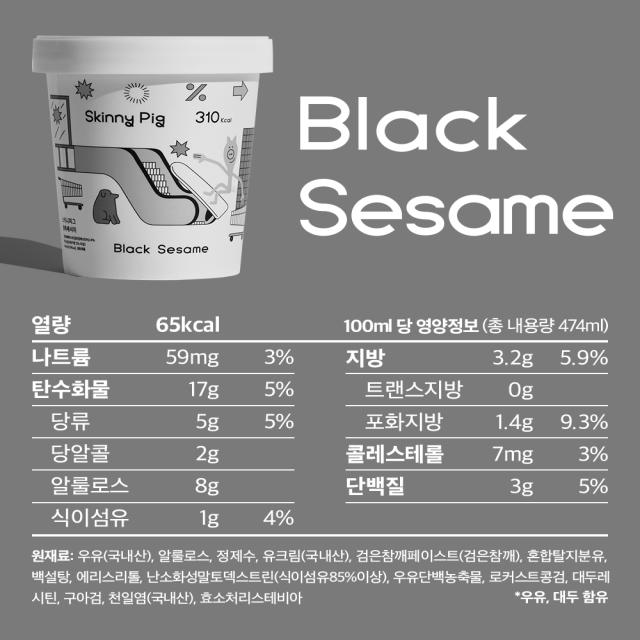Nutrition Label: (17, 294, 621, 544)
